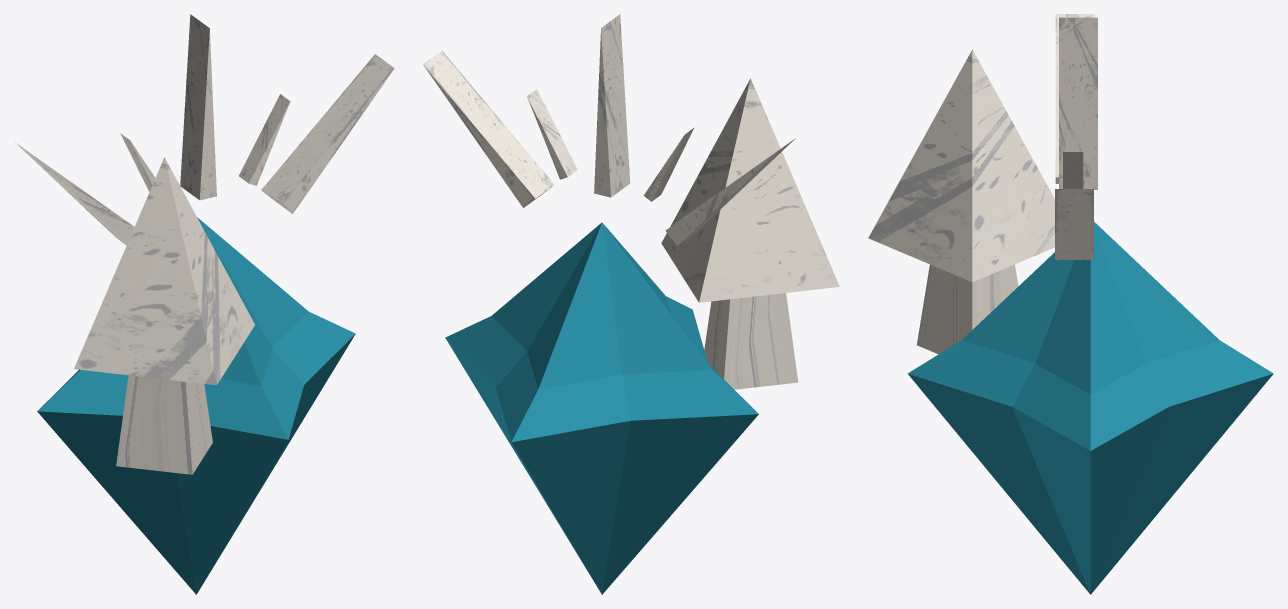
Rendered from upgrade_mana.fbx.
The picture shows the model from 3 angles, left to right: view 1: azimuth 30°, elevation 25°; view 2: azimuth 150°, elevation 25°; view 3: azimuth 270°, elevation 25°; orthographic projection.
Parts seen in each view (by area): view 1: crystal, pCone1, polySurface43, polySurface46, polySurface42, polySurface45, polySurface44; view 2: crystal, pCone1, polySurface43, polySurface46, polySurface42, polySurface45, polySurface44; view 3: crystal, pCone1, polySurface46, polySurface43, polySurface42, polySurface45.
Boxes of the visible parts, x1,y1,x2,y2 form: crystal: (37, 217, 355, 594); pCone1: (74, 157, 254, 474); polySurface43: (261, 54, 394, 213); polySurface46: (180, 14, 216, 200); polySurface42: (15, 142, 134, 245); polySurface45: (239, 94, 290, 185); polySurface44: (120, 133, 155, 191); crystal: (445, 222, 758, 594); pCone1: (661, 78, 839, 389); polySurface43: (423, 50, 554, 207); polySurface46: (594, 14, 630, 197); polySurface42: (665, 138, 795, 245); polySurface45: (527, 89, 577, 179); polySurface44: (643, 127, 694, 201); crystal: (907, 222, 1273, 594); pCone1: (868, 49, 1054, 354); polySurface46: (1059, 17, 1097, 189); polySurface43: (1055, 189, 1093, 259); polySurface42: (1055, 14, 1094, 183); polySurface45: (1063, 152, 1083, 188).
Bounding box in the file's own units: 2.56 × 3.91 × 2.49.
2 materials, 1 textured.
